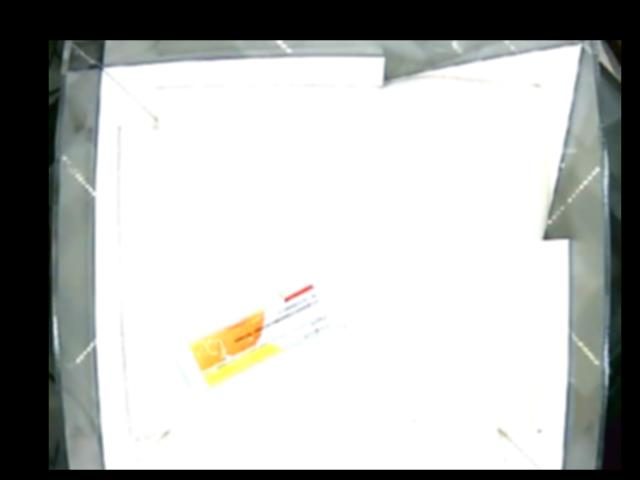Medicine: (173, 261, 377, 391)
